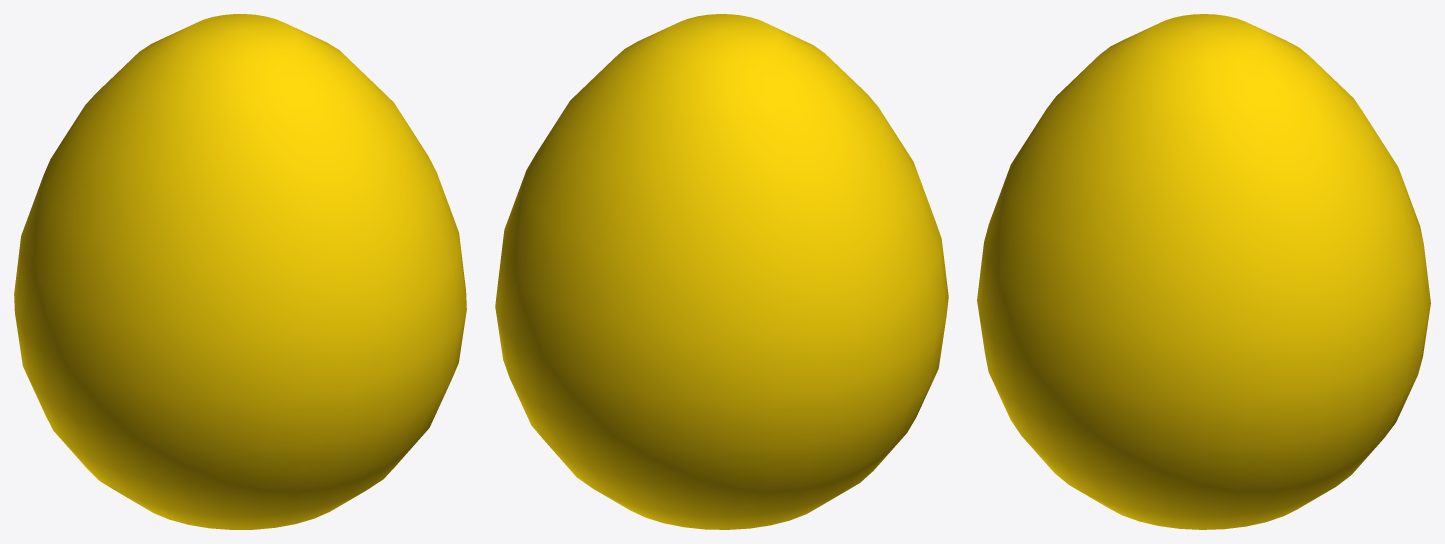
The model's file is Gold Egg.gltf.
The picture shows the model from 3 angles, left to right: view 1: azimuth 30°, elevation 25°; view 2: azimuth 150°, elevation 25°; view 3: azimuth 270°, elevation 25°; orthographic projection.
Visible parts, largest first — view 1: EGG; view 2: EGG; view 3: EGG.
Boxes of the visible parts, <box> form: EGG: <box>14,14,466,529</box>; EGG: <box>495,14,948,529</box>; EGG: <box>977,14,1430,529</box>.
Bounding box in the file's own units: 1.62 × 1.88 × 1.62.
1 material, 1 textured.
